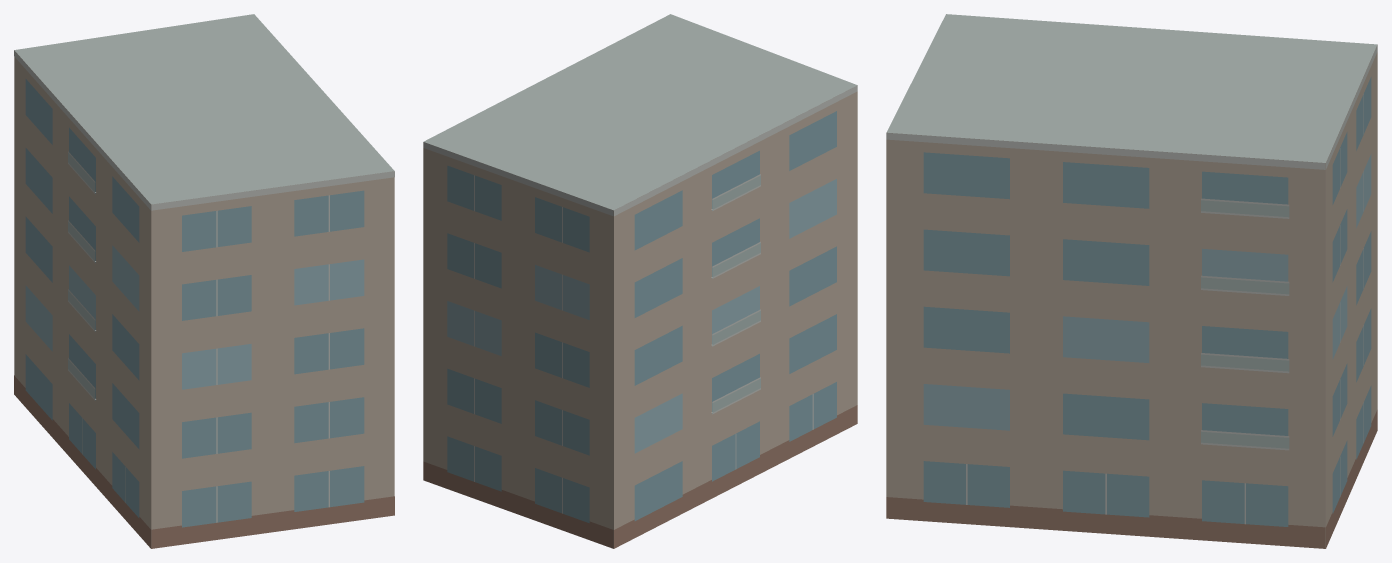
File: survey-upis-32658966.glb
The picture shows the model from 3 angles, left to right: view 1: azimuth 30°, elevation 25°; view 2: azimuth 150°, elevation 25°; view 3: azimuth 270°, elevation 25°; orthographic projection. The views are drawn at different scales.
Parts seen in each view (by area): view 1: survey-upis-32658966.tmp; view 2: survey-upis-32658966.tmp; view 3: survey-upis-32658966.tmp.
Boxes of the visible parts, left/top/right/bottom form: survey-upis-32658966.tmp: left=14, top=14, right=394, bottom=548; survey-upis-32658966.tmp: left=423, top=14, right=857, bottom=548; survey-upis-32658966.tmp: left=886, top=14, right=1377, bottom=548.
Size of the model in its own units: 11.27 by 13.6 by 15.7.
